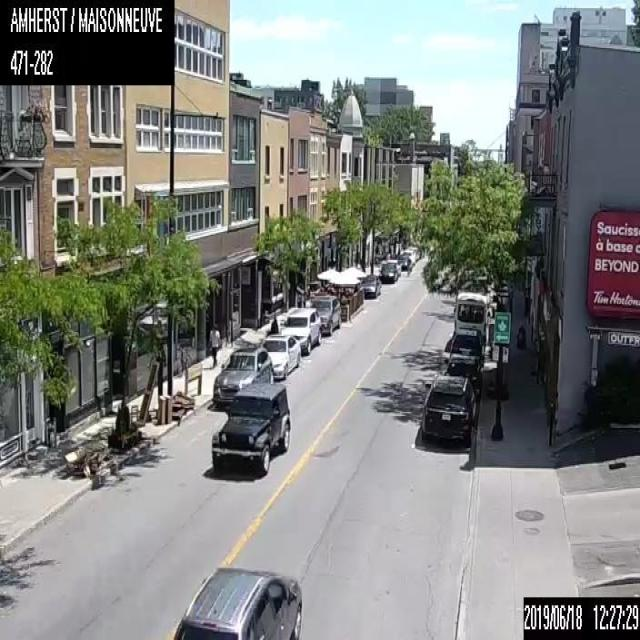pedestrian: (206, 320, 220, 368), (516, 324, 526, 347)
vehicle: (172, 565, 303, 639), (212, 382, 289, 471), (421, 374, 477, 444), (211, 346, 273, 405), (453, 288, 487, 340), (259, 334, 300, 377), (280, 308, 320, 352), (444, 352, 481, 397), (309, 295, 340, 333), (449, 328, 482, 361), (360, 274, 380, 297), (378, 262, 397, 282)
